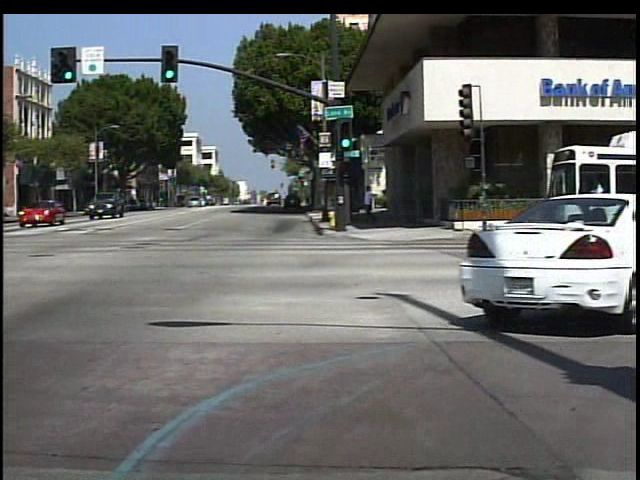person: (361, 181, 381, 226)
